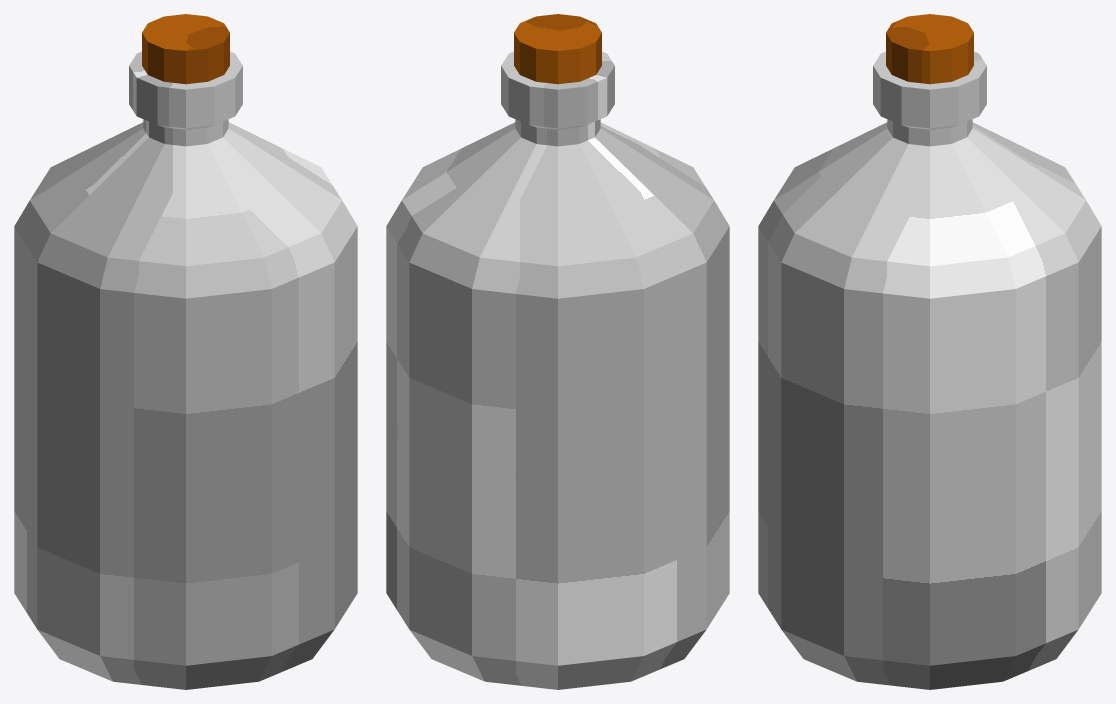
File: bottle_616x07.gltf
3 views of the same model, side by side, from view 1: azimuth 30°, elevation 25°; view 2: azimuth 150°, elevation 25°; view 3: azimuth 270°, elevation 25° (orthographic).
Visible parts, largest first — view 1: bottle_616x07; view 2: bottle_616x07; view 3: bottle_616x07.
Part boxes in pixels (left/top/right/bottom): bottle_616x07: left=14, top=14, right=357, bottom=689; bottle_616x07: left=386, top=14, right=729, bottom=689; bottle_616x07: left=758, top=14, right=1101, bottom=689.
Size of the model in its own units: 0.6 by 1.15 by 0.6.
Materials: 1 (1 with a texture image).
